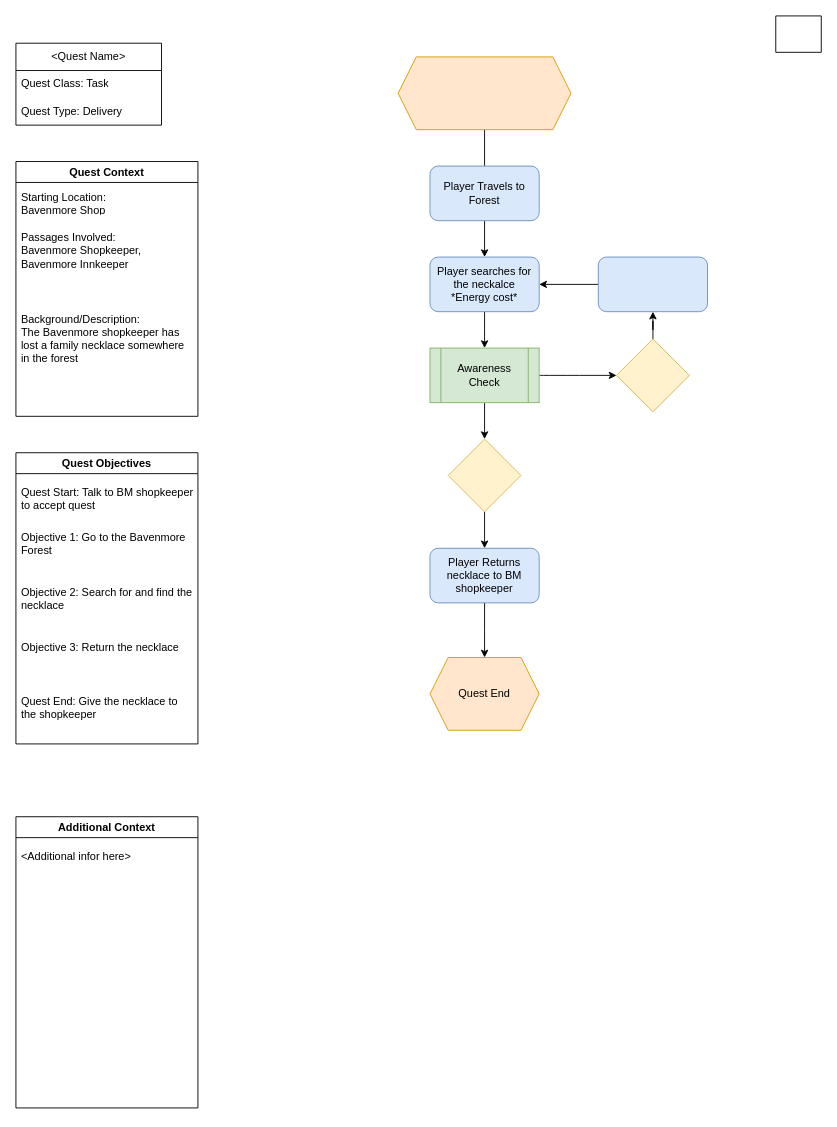
Image size: 837x1127. Some labels were removed from this diagram. Here are the shapes that lost their labels. From the top down, the centre of each, then its label:
At (484,93): "Quest Start Shopkeeper tells player about necklace and asks for help".
At (652,284): "Failed to find necklace".
At (652,375): "Fail".
At (484,475): "Success".
